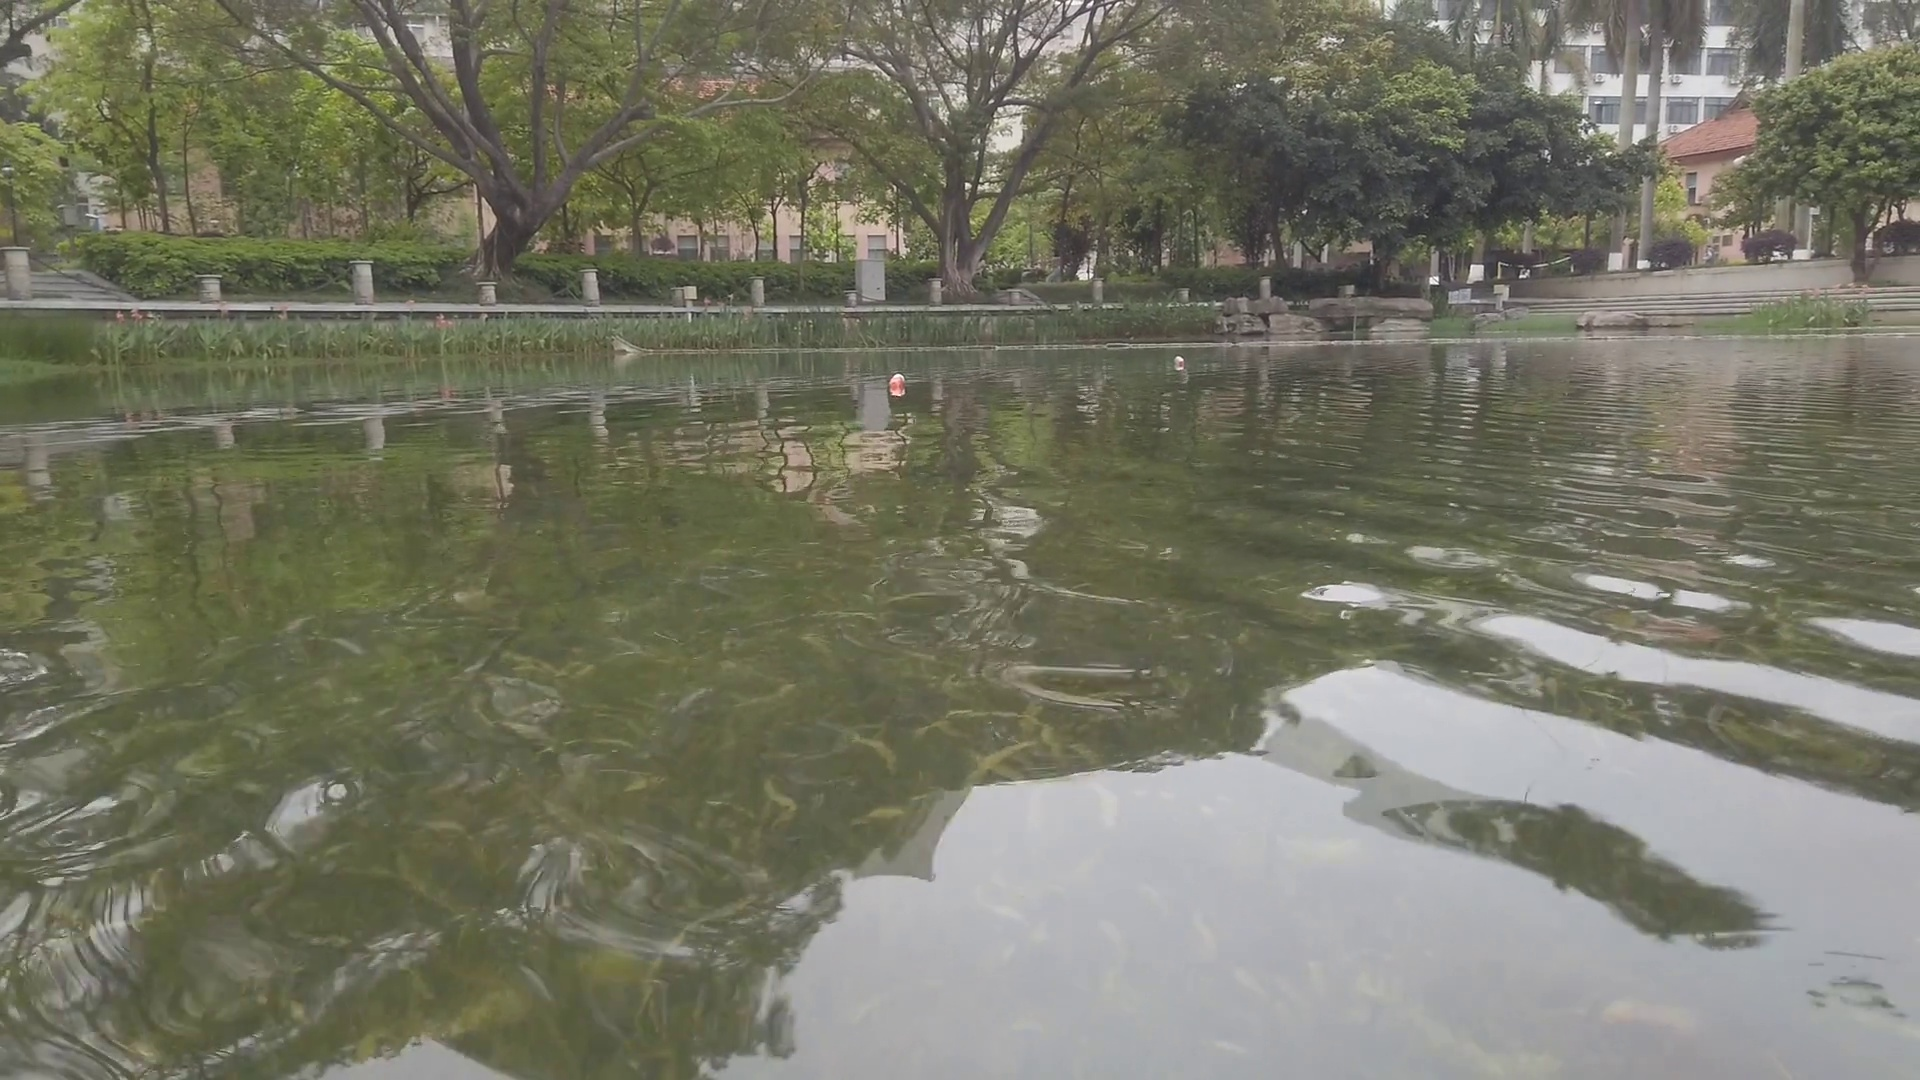bottle: (887, 373, 907, 398), (1174, 355, 1187, 369)
